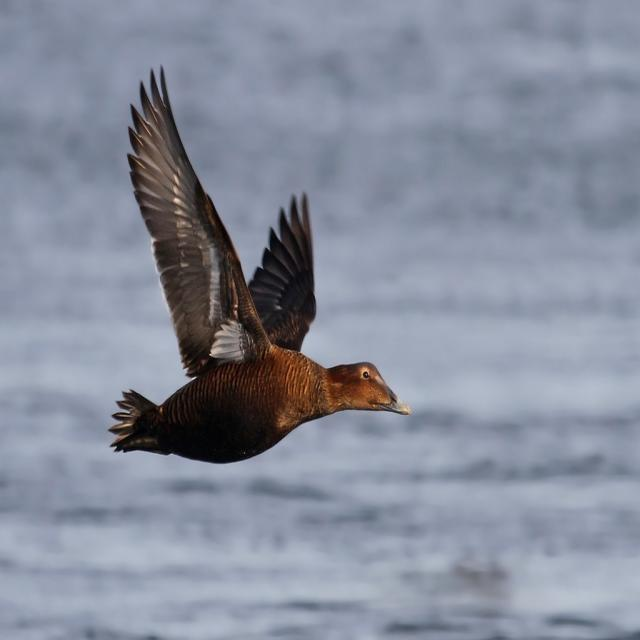bird: (90, 65, 430, 478)
